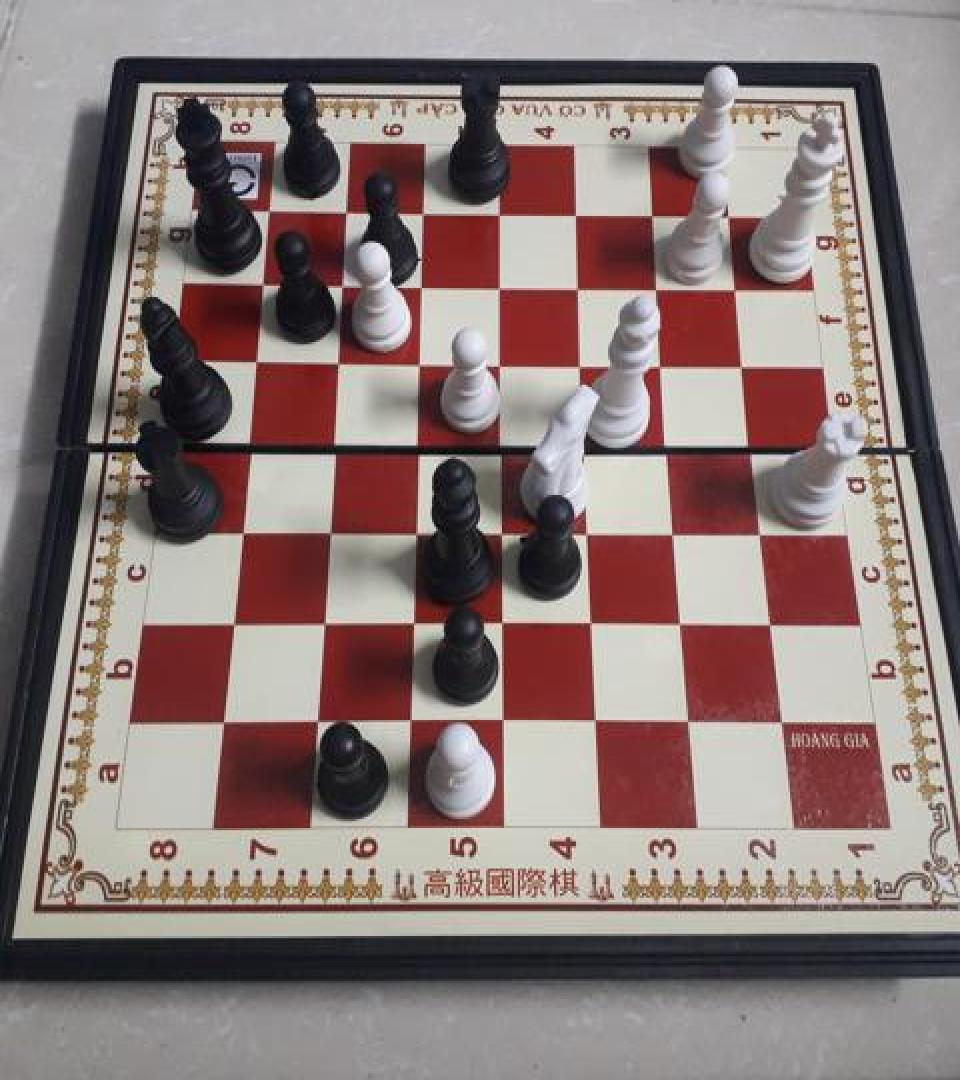xcorner: (765, 705, 797, 742), (207, 702, 239, 738), (300, 702, 332, 738), (393, 703, 425, 739), (486, 703, 518, 739), (579, 704, 611, 740), (672, 704, 704, 740), (216, 603, 248, 639), (306, 604, 338, 640), (396, 604, 428, 640), (486, 605, 518, 641), (576, 606, 608, 642), (666, 606, 698, 642), (756, 608, 788, 644), (225, 511, 257, 547), (312, 512, 344, 548), (399, 513, 431, 549), (487, 513, 519, 549), (574, 514, 606, 550), (661, 514, 693, 550), (747, 515, 779, 551), (233, 425, 265, 461), (317, 425, 349, 461), (402, 426, 434, 462), (487, 426, 519, 462), (571, 428, 603, 464), (655, 428, 687, 464), (739, 428, 771, 464), (240, 343, 272, 379), (323, 344, 355, 380), (405, 346, 437, 382), (487, 346, 519, 382), (569, 346, 601, 382), (650, 346, 682, 382), (732, 348, 764, 384), (327, 268, 359, 304), (407, 268, 439, 304), (487, 269, 519, 305), (566, 270, 598, 306), (646, 270, 678, 306), (725, 271, 757, 307), (332, 196, 364, 232), (409, 196, 441, 232), (487, 197, 519, 233), (564, 198, 596, 234), (641, 198, 673, 234), (718, 199, 750, 235), (248, 267, 280, 302), (254, 195, 286, 230)
